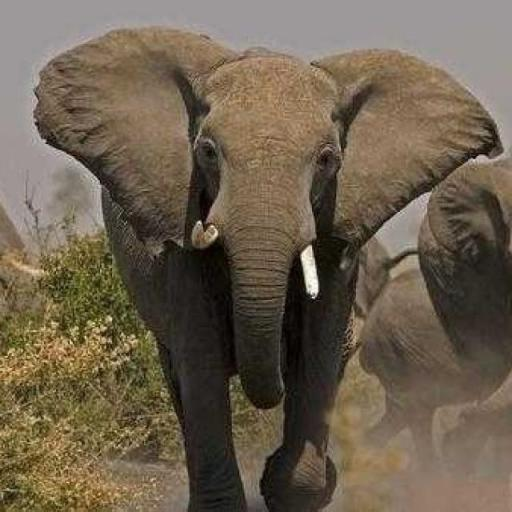Elephant: (30, 23, 504, 511)
